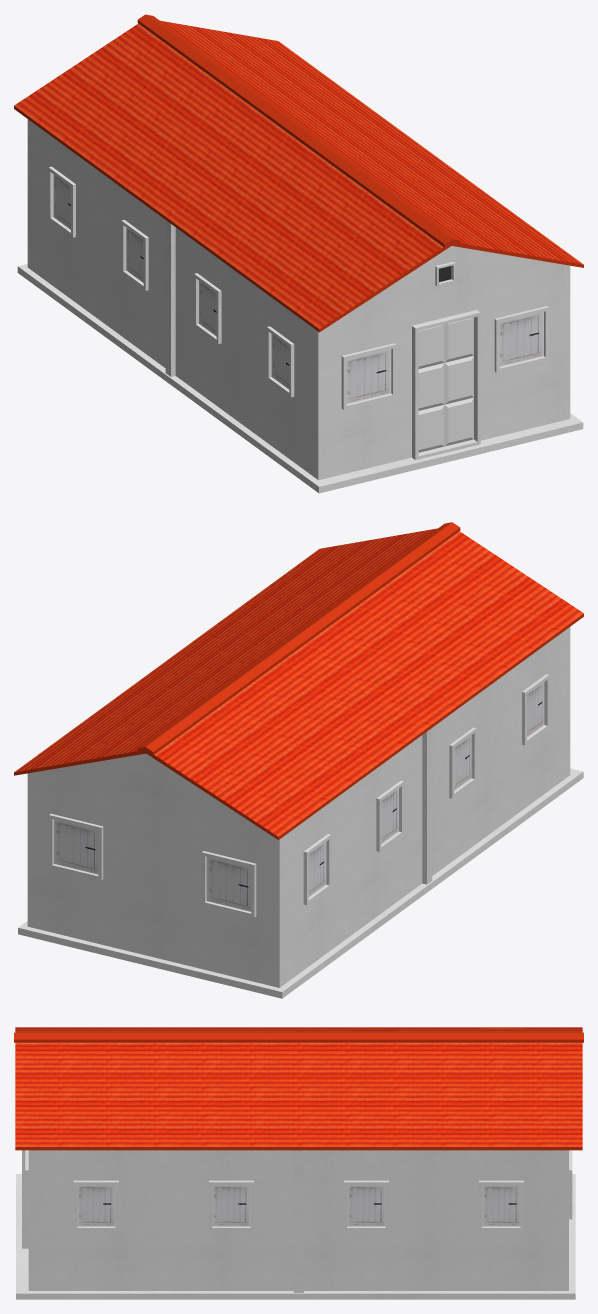
File: House_Single.fbx
The picture shows the model from 3 angles, top to bottom: view 1: azimuth 30°, elevation 25°; view 2: azimuth 150°, elevation 25°; view 3: azimuth 270°, elevation 25°; orthographic projection. The views are drawn at different scales.
Parts seen in each view (by area): view 1: Cube; view 2: Cube; view 3: Cube.
Part boxes in pixels (x1,y1,x2,y2): Cube: (14, 14, 583, 493); Cube: (14, 522, 583, 998); Cube: (14, 1027, 583, 1299).
Size of the model in its own units: 4.2 by 3.38 by 8.44.
